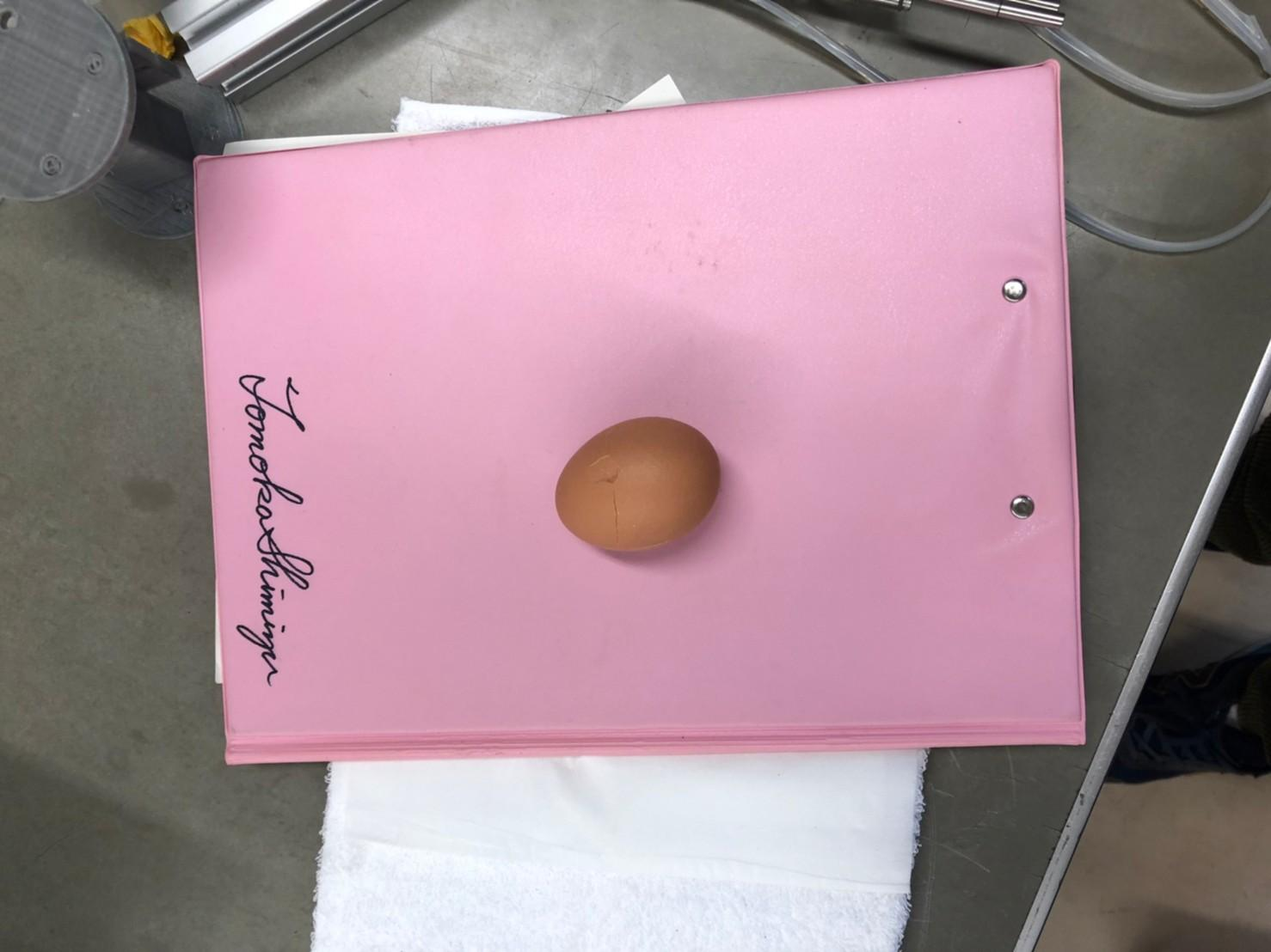egg: (551, 414, 723, 560)
